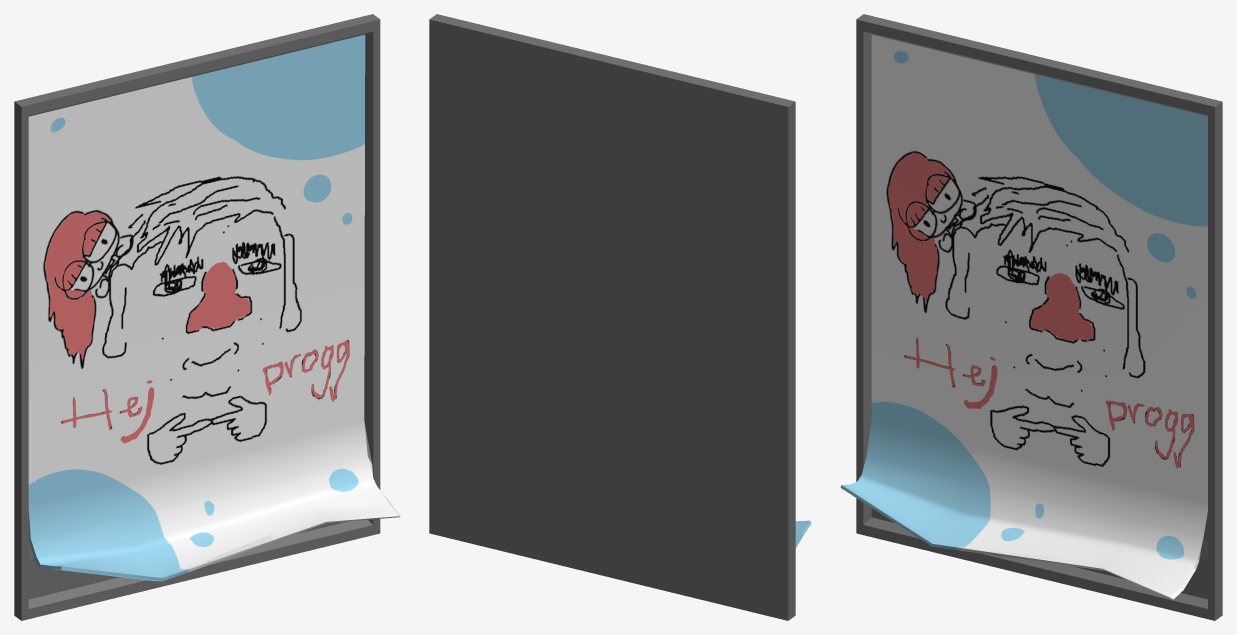
File: Poster_Torn3Poster_Torn1.fbx
3 renders of one model, left to right at view 1: azimuth 30°, elevation 25°; view 2: azimuth 150°, elevation 25°; view 3: azimuth 330°, elevation 25°, orthographic.
Visible parts, largest first — view 1: Poster_Torn3; view 2: Poster_Torn3; view 3: Poster_Torn3.
Boxes of the visible parts, left/top/right/bottom form: Poster_Torn3: left=14, top=14, right=400, bottom=620; Poster_Torn3: left=429, top=14, right=811, bottom=620; Poster_Torn3: left=840, top=14, right=1222, bottom=620.
Size of the model in its own units: 71.42 by 97.79 by 13.96.
Materials: 1 (1 with a texture image).
